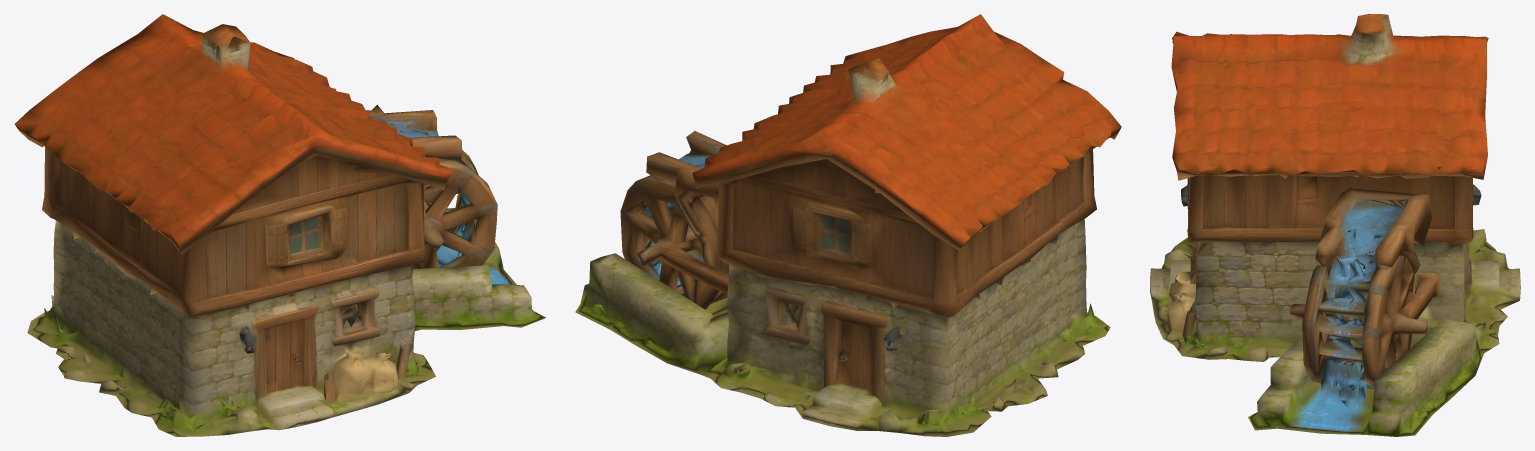
The model's file is degirmen-ham.glb.
3 views of the same model, side by side, from view 1: azimuth 30°, elevation 25°; view 2: azimuth 150°, elevation 25°; view 3: azimuth 270°, elevation 25° (orthographic). The views are drawn at different scales.
Parts seen in each view (by area): view 1: tripo_node_520ce0fc-7cc0-4d6a-bad7-e9911f748b0b; view 2: tripo_node_520ce0fc-7cc0-4d6a-bad7-e9911f748b0b; view 3: tripo_node_520ce0fc-7cc0-4d6a-bad7-e9911f748b0b.
Boxes of the visible parts, left/top/right/bottom form: tripo_node_520ce0fc-7cc0-4d6a-bad7-e9911f748b0b: left=14, top=14, right=545, bottom=436; tripo_node_520ce0fc-7cc0-4d6a-bad7-e9911f748b0b: left=575, top=14, right=1121, bottom=436; tripo_node_520ce0fc-7cc0-4d6a-bad7-e9911f748b0b: left=1150, top=14, right=1520, bottom=436.
Size of the model in its own units: 0.966 by 0.6318 by 0.7178.
Materials: 1 (1 with a texture image).
